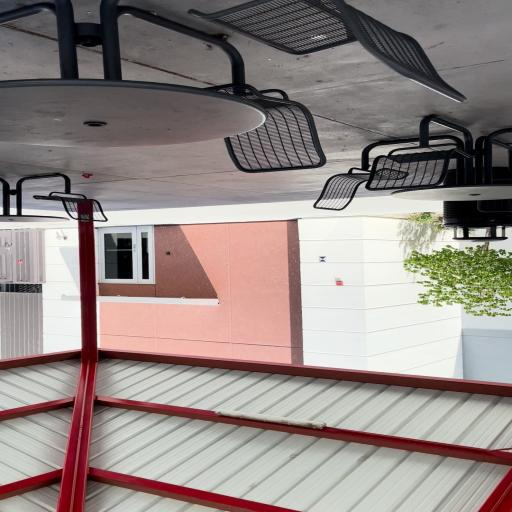target2: (318, 256, 326, 262)
